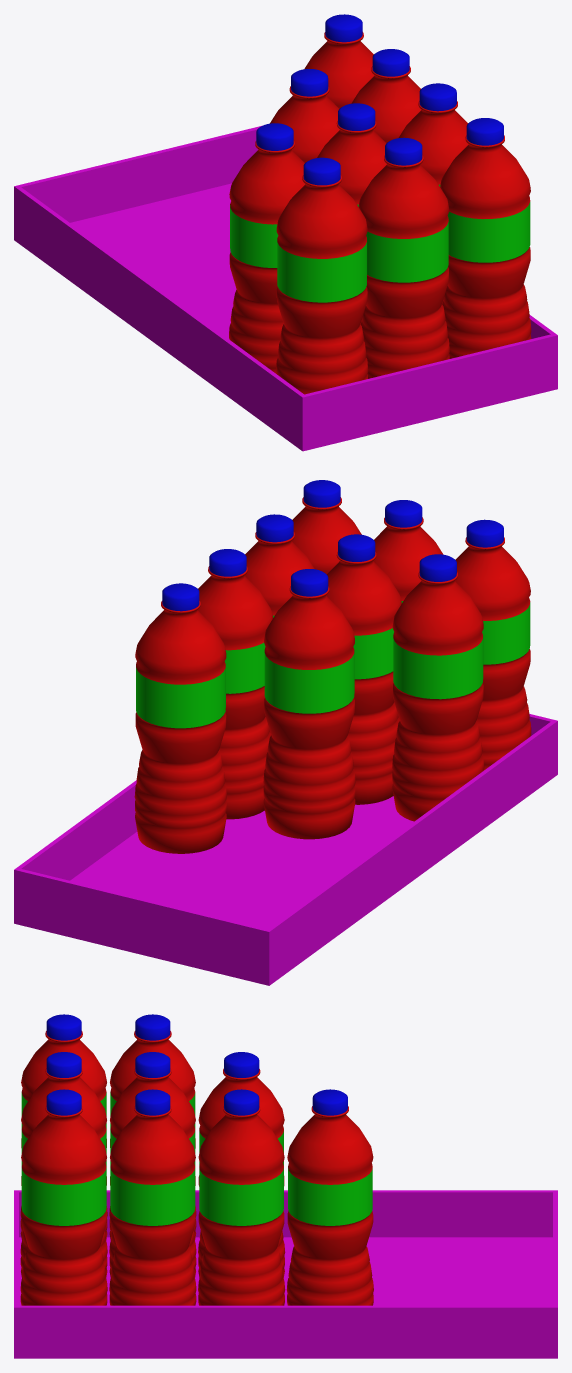
The model's file is waterbox.fbx.
The picture shows the model from 3 angles, top to bottom: view 1: azimuth 30°, elevation 25°; view 2: azimuth 150°, elevation 25°; view 3: azimuth 270°, elevation 25°; orthographic projection. The views are drawn at different scales.
Parts seen in each view (by area): view 1: Cube; view 2: Cube; view 3: Cube.
Boxes of the visible parts, box(x1,y1,x2,y2) form: Cube: box(14, 14, 557, 451); Cube: box(14, 480, 557, 985); Cube: box(14, 1014, 557, 1358).
Size of the model in its own units: 426 by 408 by 834.
